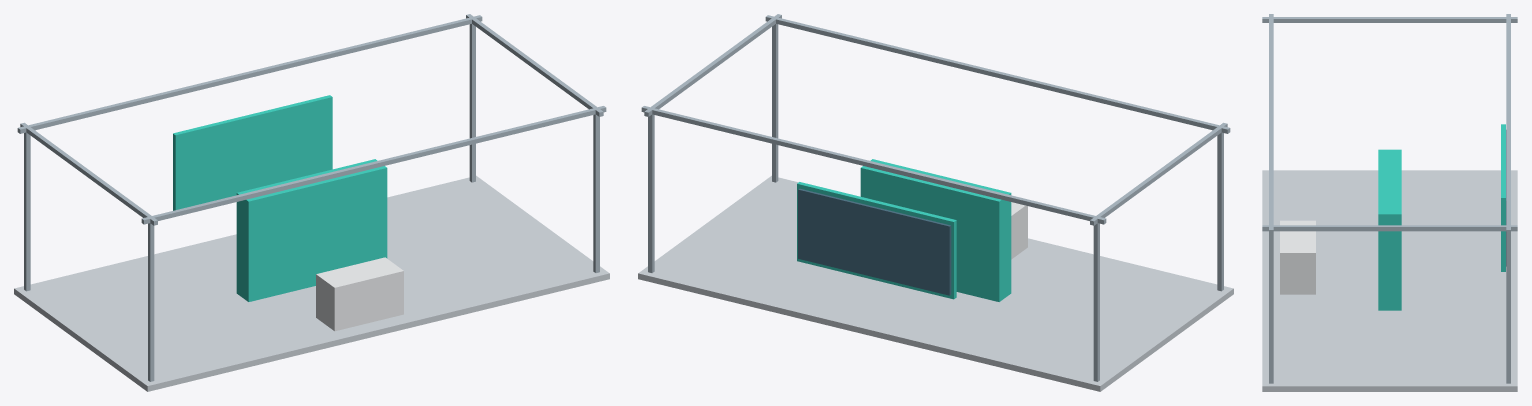
The picture shows the model from 3 angles, left to right: view 1: azimuth 30°, elevation 25°; view 2: azimuth 150°, elevation 25°; view 3: azimuth 270°, elevation 25°; orthographic projection. The views are drawn at different scales.
Visible parts, largest first — view 1: Exhibition Booth Concept; view 2: Exhibition Booth Concept; view 3: Exhibition Booth Concept.
Boxes of the visible parts, x1=… form: Exhibition Booth Concept: x1=14, y1=14, x2=609, y2=391; Exhibition Booth Concept: x1=638, y1=14, x2=1233, y2=391; Exhibition Booth Concept: x1=1262, y1=14, x2=1517, y2=391.
Bounding box in the file's own units: 10 × 3.49 × 5.
